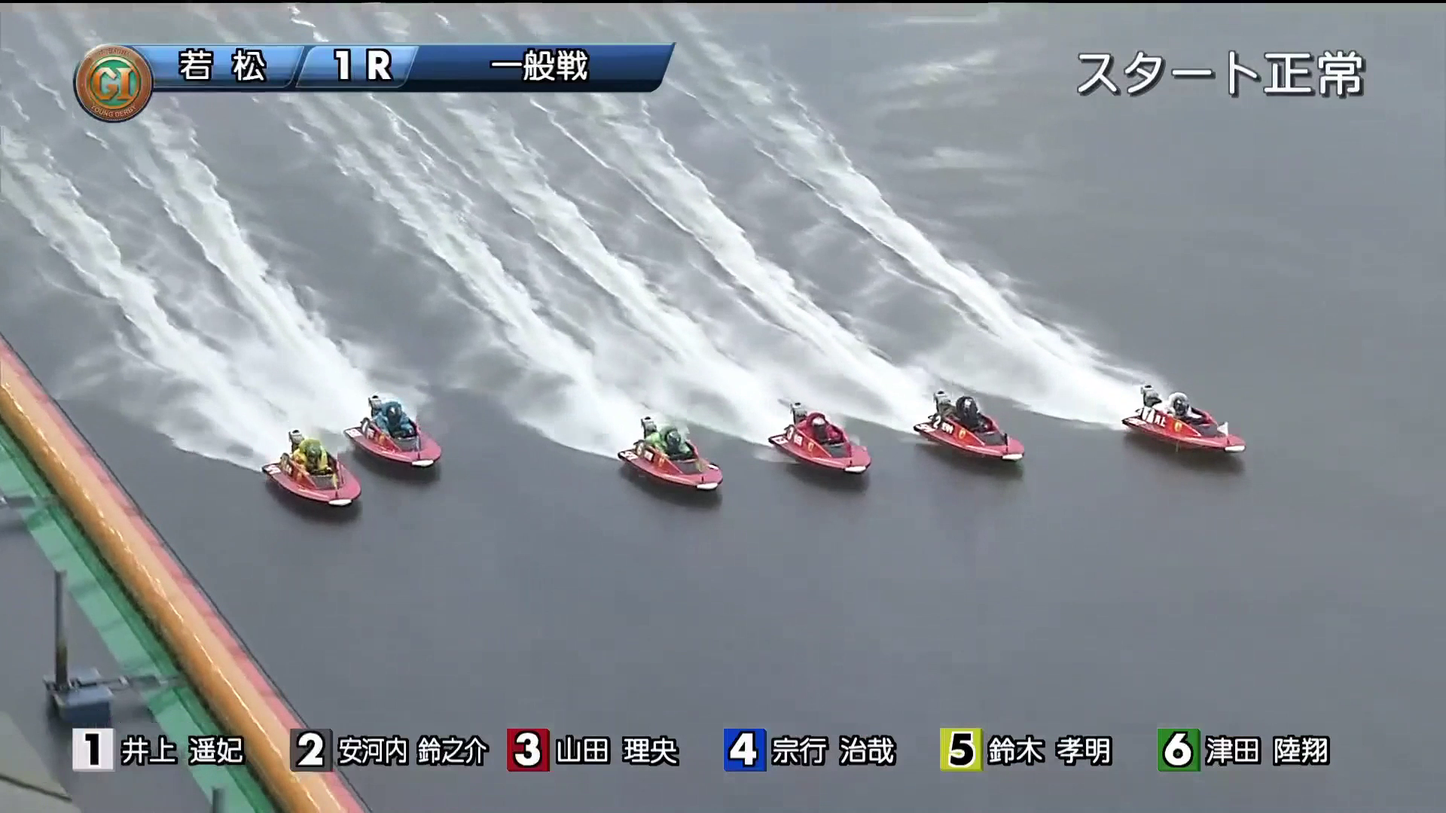１号艇: (1140, 375, 1248, 422)
２号艇: (925, 387, 1031, 435)
３号艇: (771, 425, 883, 467)
４号艇: (628, 433, 739, 486)
５号艇: (342, 407, 463, 462)
６号艇: (285, 466, 385, 523)
